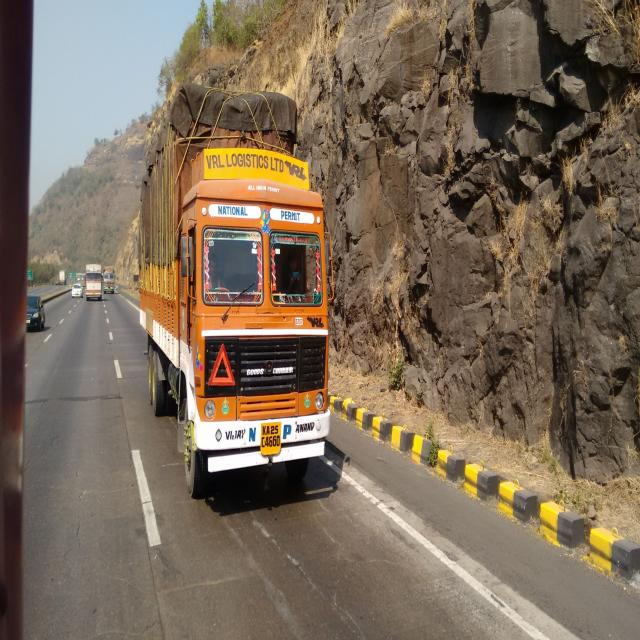goods: (148, 82, 296, 167)
truck: (140, 131, 330, 496)
